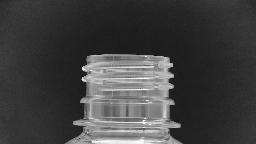No Cap: (68, 48, 186, 132)
